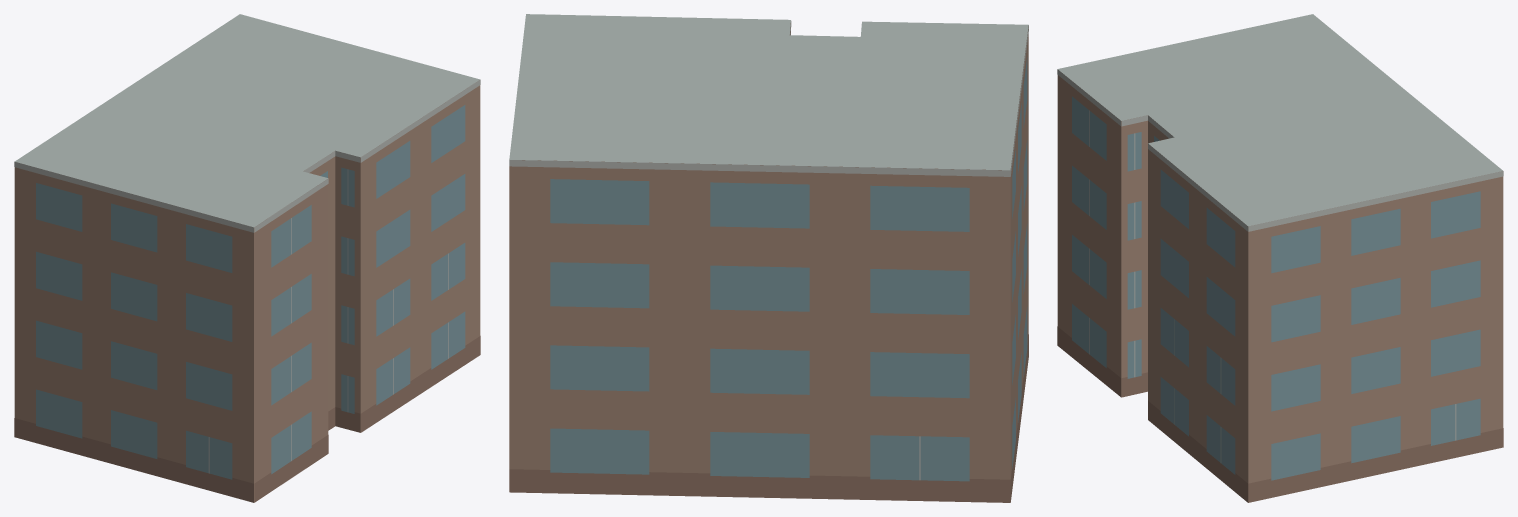
The model's file is survey-upis-32689720.glb.
3 renders of one model, left to right at view 1: azimuth 30°, elevation 25°; view 2: azimuth 150°, elevation 25°; view 3: azimuth 270°, elevation 25°, orthographic. The views are drawn at different scales.
Visible parts, largest first — view 1: survey-upis-32689720.tmp; view 2: survey-upis-32689720.tmp; view 3: survey-upis-32689720.tmp.
Boxes of the visible parts, x1=… form: survey-upis-32689720.tmp: x1=14, y1=14, x2=480, y2=502; survey-upis-32689720.tmp: x1=509, y1=14, x2=1028, y2=502; survey-upis-32689720.tmp: x1=1057, y1=14, x2=1503, y2=502.
Size of the model in its own units: 20.11 by 12.2 by 17.85.
